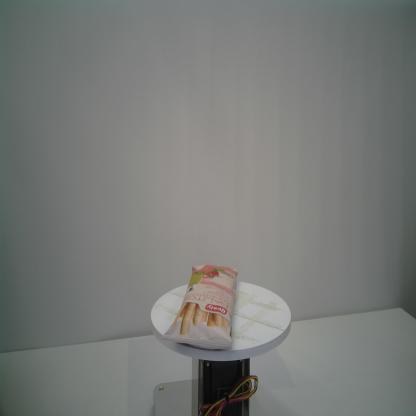Dessert: (161, 262, 240, 348)
